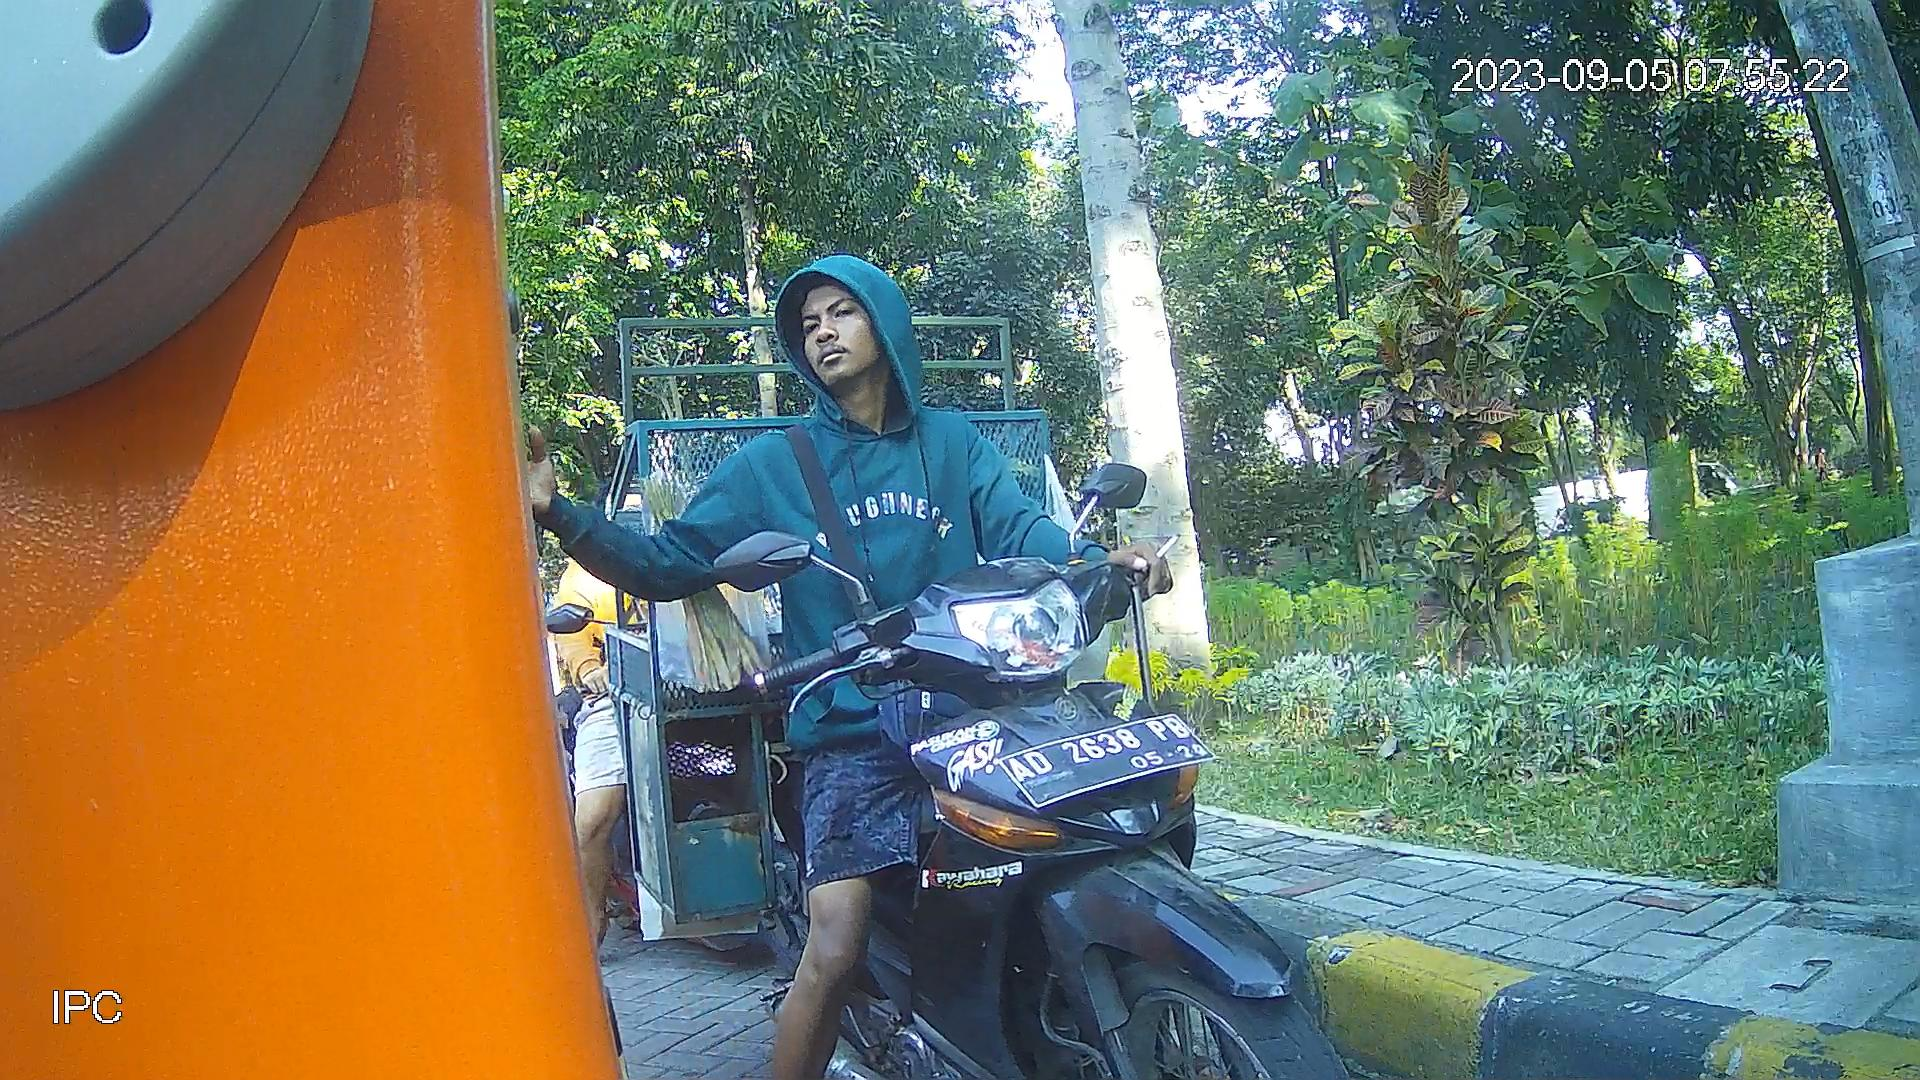plat: (990, 709, 1220, 810)
